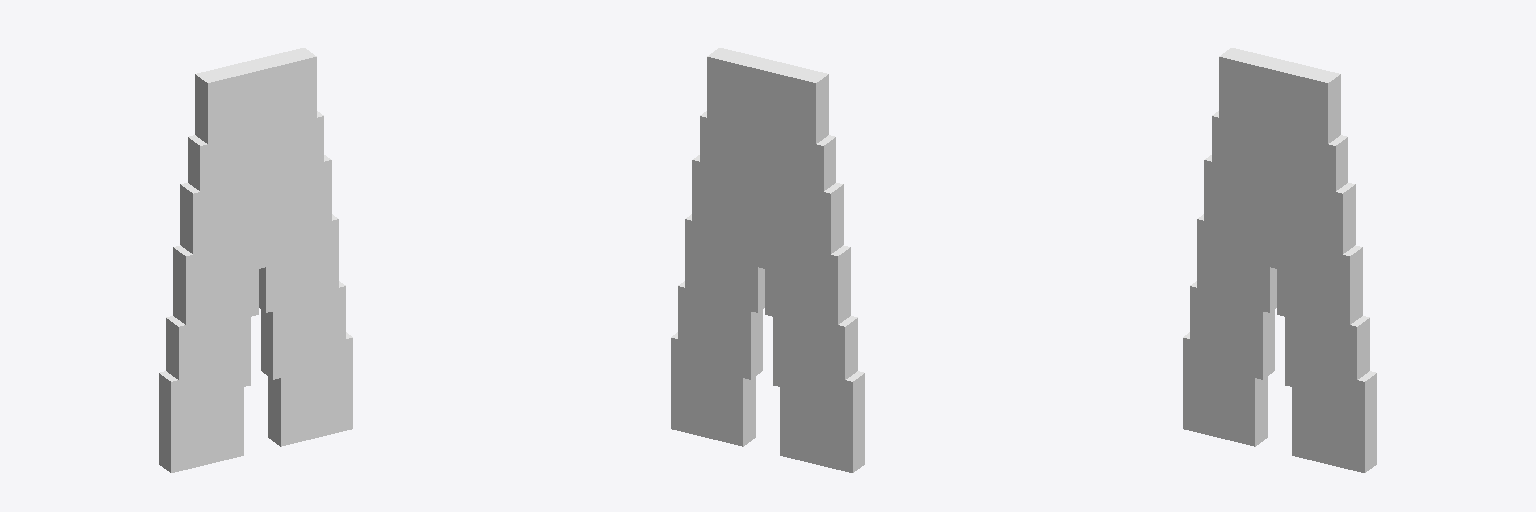
File: jeans.obj
The picture shows the model from 3 angles: view 1: azimuth 30°, elevation 25°; view 2: azimuth 150°, elevation 25°; view 3: azimuth 330°, elevation 25°; orthographic projection.
Parts seen in each view (by area): view 1: object 1; view 2: object 1; view 3: object 1.
Part boxes in pixels (x1,y1,x2,y2): object 1: (159, 48, 352, 472); object 1: (671, 48, 864, 472); object 1: (1183, 48, 1376, 472).
Size of the model in its own units: 2.5 by 5 by 0.3.